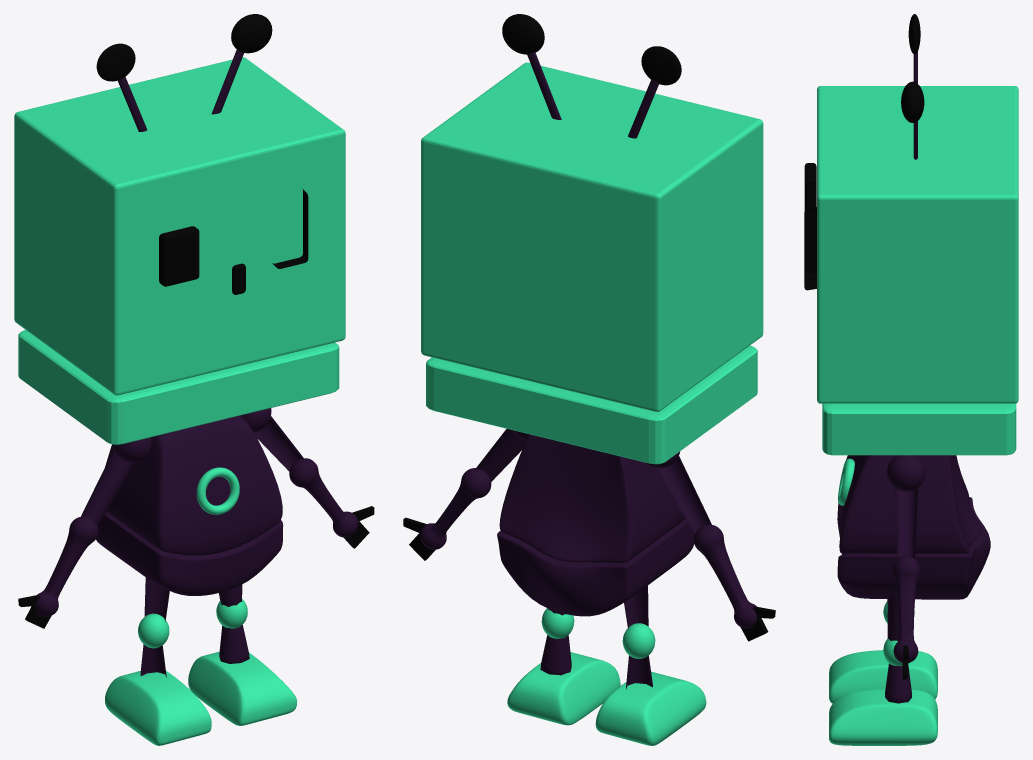
File: Avatar.glb
The picture shows the model from 3 angles, left to right: view 1: azimuth 30°, elevation 25°; view 2: azimuth 150°, elevation 25°; view 3: azimuth 270°, elevation 25°; orthographic projection. The views are drawn at different scales.
Parts seen in each view (by area): view 1: Cube.014, Cube.001, Cube, Cube.004, Cube.003, Sphere.001, Sphere, Cube.002, Sphere.005, Sphere.004, Torus.003, Sphere.003 (+2 smaller); view 2: Cube.014, Cube.001, Cube, Cube.004, Cube.003, Sphere.001, Sphere, Cube.002, Sphere.005, Sphere.004, Sphere.003, Sphere.002 (+1 smaller); view 3: Cube.014, Cube.001, Cube, Cube.003, Sphere, Cube.004, Cube.002, Sphere.005, Torus.003, Sphere.004.
Part boxes in pixels (left/top/right/bottom): Cube.014: left=14, top=57, right=345, bottom=395; Cube.001: left=96, top=415, right=283, bottom=595; Cube: left=18, top=330, right=339, bottom=444; Cube.004: left=105, top=671, right=211, bottom=745; Cube.003: left=188, top=651, right=297, bottom=725; Sphere.001: left=35, top=437, right=151, bottom=616; Sphere: left=240, top=408, right=358, bottom=537; Cube.002: left=140, top=577, right=249, bottom=677; Sphere.005: left=231, top=14, right=272, bottom=53; Sphere.004: left=96, top=43, right=135, bottom=81; Torus.003: left=196, top=467, right=239, bottom=514; Sphere.003: left=138, top=613, right=169, bottom=648; Cube.014: left=421, top=62, right=763, bottom=411; Cube.001: left=497, top=434, right=694, bottom=616; Cube: left=426, top=345, right=757, bottom=464; Cube.004: left=595, top=671, right=706, bottom=745; Cube.003: left=507, top=652, right=620, bottom=725; Sphere.001: left=645, top=451, right=756, bottom=628; Sphere: left=420, top=429, right=529, bottom=549; Cube.002: left=540, top=585, right=652, bottom=689; Sphere.005: left=502, top=14, right=544, bottom=54; Sphere.004: left=641, top=46, right=681, bottom=85; Sphere.003: left=622, top=623, right=655, bottom=658; Sphere.002: left=541, top=608, right=574, bottom=638; Cube.014: left=804, top=86, right=1018, bottom=403; Cube.001: left=837, top=455, right=990, bottom=599; Cube: left=822, top=403, right=1016, bottom=455; Cube.003: left=829, top=689, right=937, bottom=745; Sphere: left=887, top=455, right=925, bottom=662; Cube.004: left=829, top=650, right=937, bottom=703; Cube.002: left=885, top=592, right=911, bottom=703; Sphere.005: left=901, top=81, right=924, bottom=122; Torus.003: left=838, top=458, right=854, bottom=505; Sphere.004: left=908, top=14, right=920, bottom=54.
Size of the model in its own units: 1.4 by 2.53 by 0.7358.
